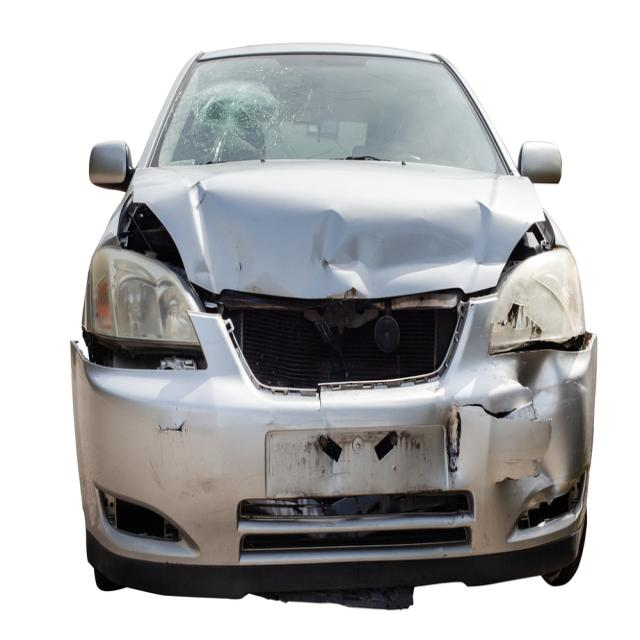crack: (461, 402, 518, 420), (497, 474, 541, 488), (316, 387, 323, 412)
dent: (187, 183, 526, 298), (514, 350, 567, 489), (443, 406, 462, 490)
glass shatter: (151, 53, 511, 175)
lamp broken: (490, 246, 586, 354)
